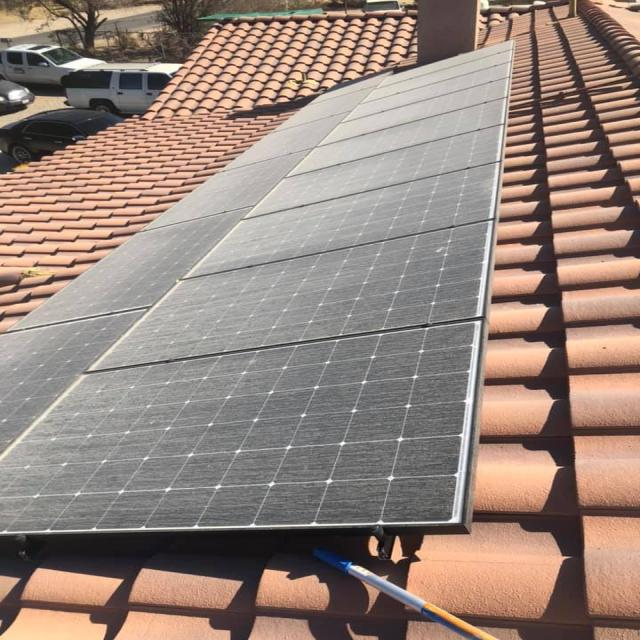dust-solar-panel: (4, 40, 513, 531)
